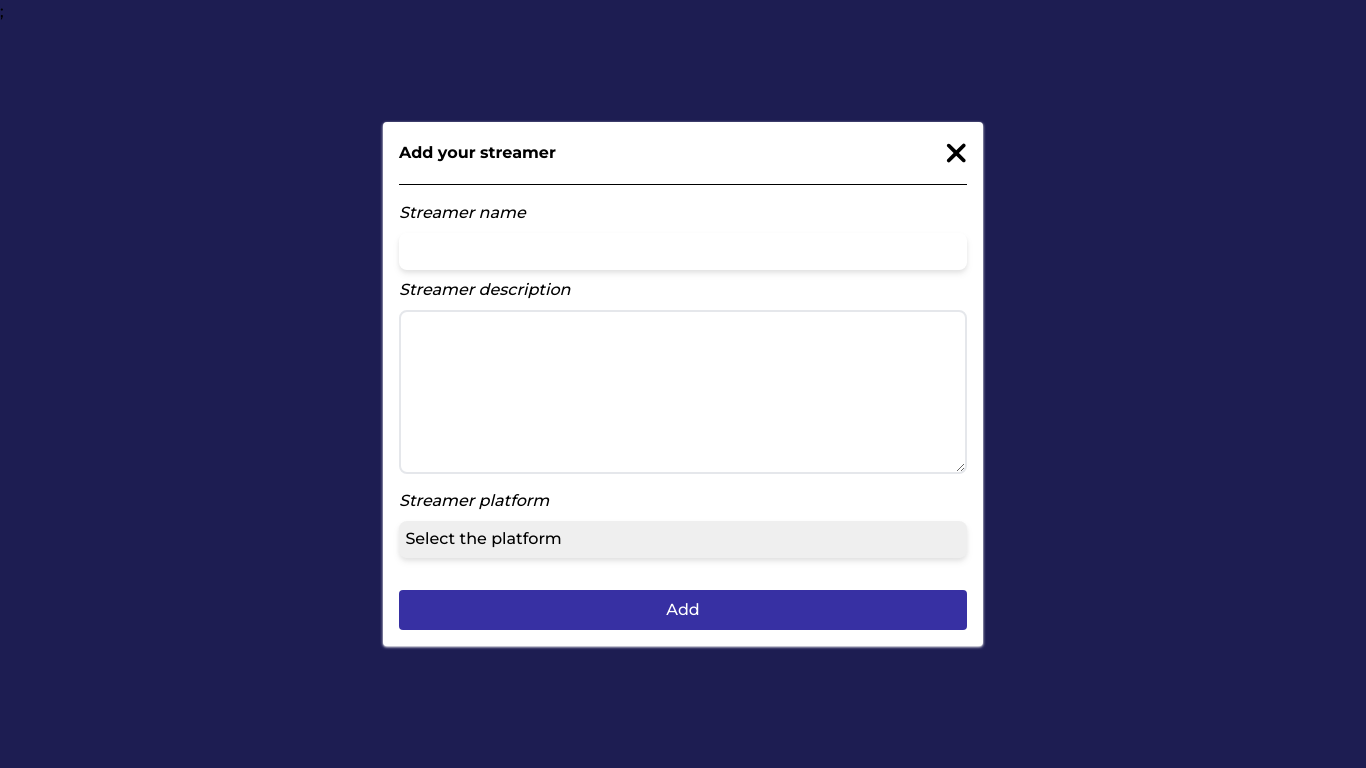
Test: new-streamer › streamer-name › check if input field was focused and than if the focus was removed
Type "123456789112345678911234567891123456789112345678911" into the field named "streamer-name" at (683, 252), box [399,233,967,270]
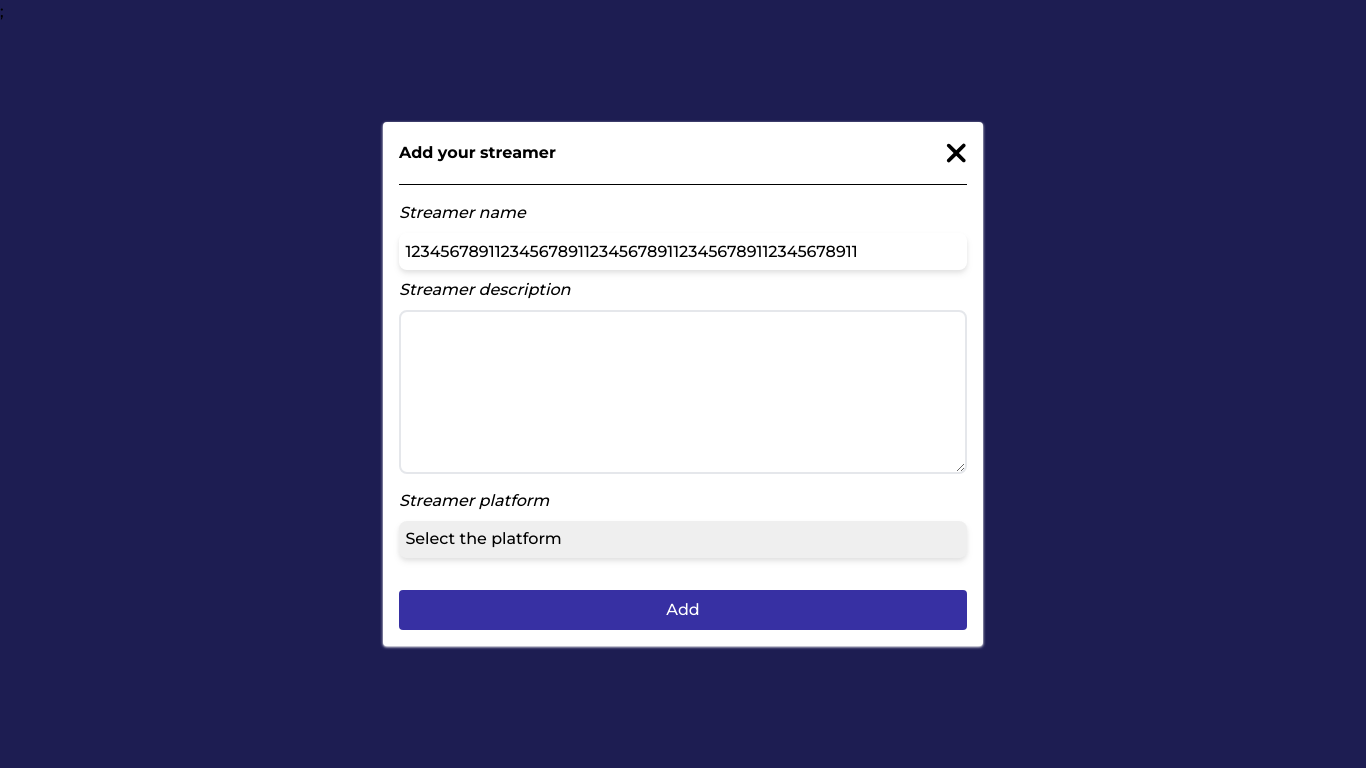
Leave the field named "streamer-name", box [399,233,967,270]
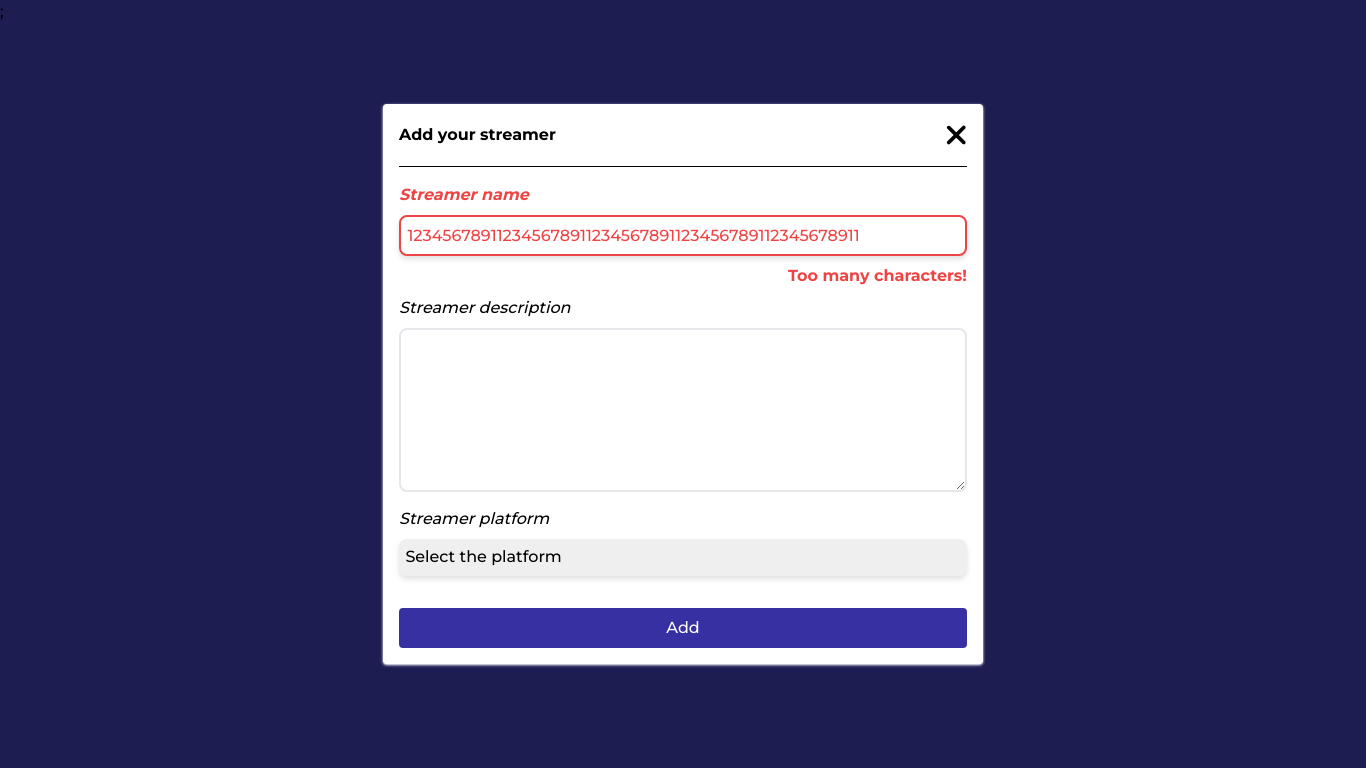
expect the text "Too many characters!" is shown: met, box [788,264,967,288]
